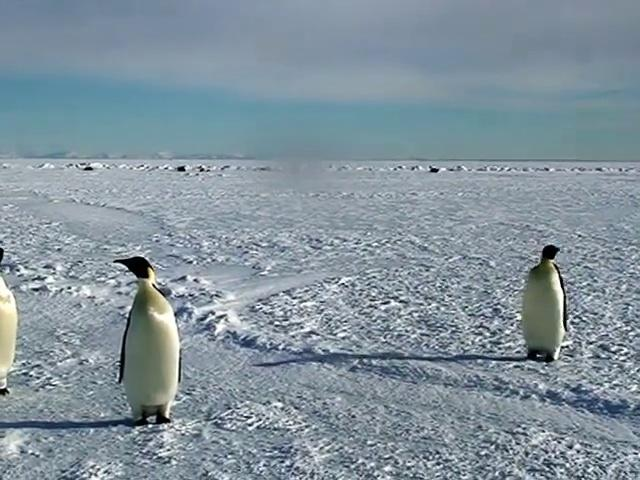animal: (114, 257, 180, 424)
